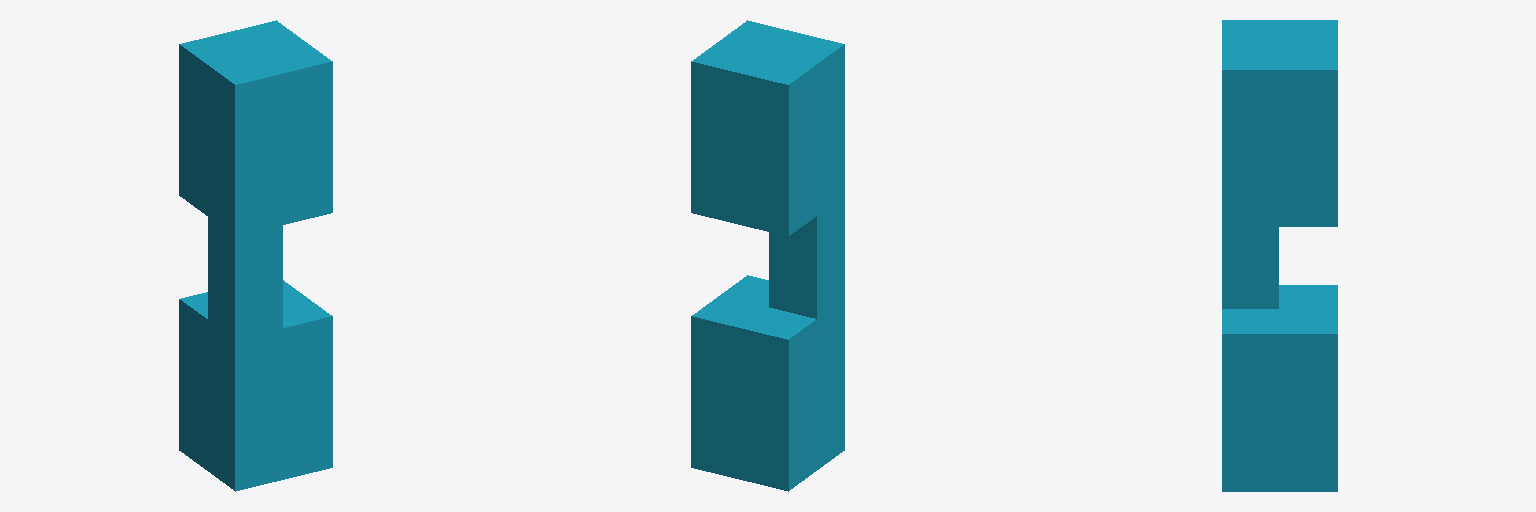
robot.urdf — obj_8:
<robot name="obj_8" version="1.0">
  <link name="obj_8">
    <collision name="interlocking-puzzle-4-2-collision.001">
      <origin rpy="0.00000 0.00000 0.00000" xyz="-0.18621 0.48673 0.48399"/>
      <geometry>
        <mesh filename="../meshes/obj/interlocking-puzzle-4-2-collision.001.obj" scale="2.09740 2.09740 2.09740"/>
      </geometry>
    </collision>
    <collision name="interlocking-puzzle-4-2-collision.002">
      <origin rpy="0.00000 0.00000 0.00000" xyz="-0.21103 0.45419 0.31890"/>
      <geometry>
        <mesh filename="../meshes/obj/interlocking-puzzle-4-2-collision.002.obj" scale="2.09740 2.09740 2.09740"/>
      </geometry>
    </collision>
    <collision name="interlocking-puzzle-4-2-collision.003">
      <origin rpy="0.00000 0.00000 0.00000" xyz="-0.18621 0.48673 0.15375"/>
      <geometry>
        <mesh filename="../meshes/obj/interlocking-puzzle-4-2-collision.003.obj" scale="2.09740 2.09740 2.08690"/>
      </geometry>
    </collision>
    <inertial>
      <inertia ixx="0.00492" ixy="-0.00001" ixz="-0.00000" iyy="0.00492" iyz="-0.00000" izz="0.00051"/>
      <origin rpy="0.00000 0.00000 0.00000" xyz="-0.18189 0.49105 0.31885"/>
      <mass value="0.03000"/>
    </inertial>
    <visual name="interlocking-puzzle-4-2">
      <material name="Light Blue"/>
      <origin rpy="-1.57080 -1.57080 0.00000" xyz="-0.17908 0.49386 0.31885"/>
      <geometry>
        <mesh filename="../meshes/obj/interlocking-puzzle-4.001.obj" scale="0.01049 0.01049 0.01049"/>
      </geometry>
    </visual>
  </link>
  <material name="Light Blue">
    <color rgba="0.15294 0.68627 0.80000 1.00000"/>
  </material>
</robot>

--- Facts derived from the render (not from the file) ---
3 views of the same robot in one strip: view 1: azimuth 30°, elevation 25°; view 2: azimuth 150°, elevation 25°; view 3: azimuth 270°, elevation 25° (orthographic).
Model obj_8 with 1 links and 0 joints (none), rooted at obj_8, posed every joint at zero.
Links seen in each view (by area): view 1: obj_8; view 2: obj_8; view 3: obj_8.
Link boxes in pixels (<box>): obj_8: <box>179,20,332,491</box>; obj_8: <box>691,20,844,491</box>; obj_8: <box>1222,20,1337,491</box>.
Size in the robot's own frame: 0.1574 by 0.1574 by 0.6294 metres.
1 mesh visuals loaded from 1 distinct referenced files (1 OBJ).